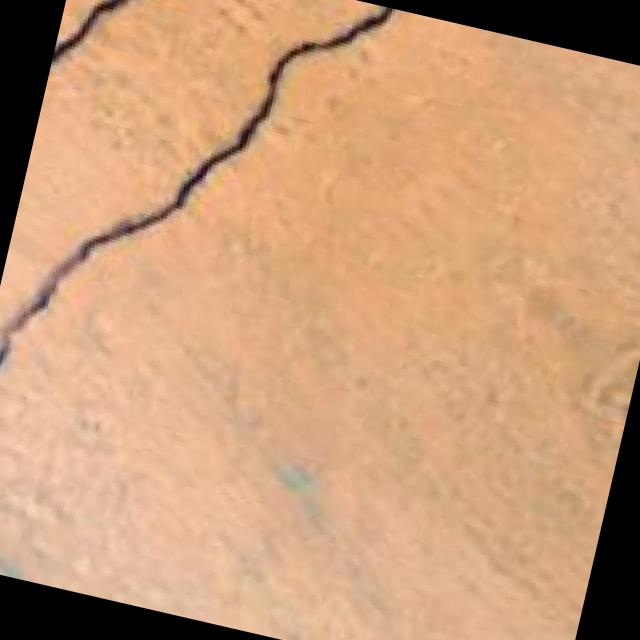crack: (0, 0, 398, 496)
